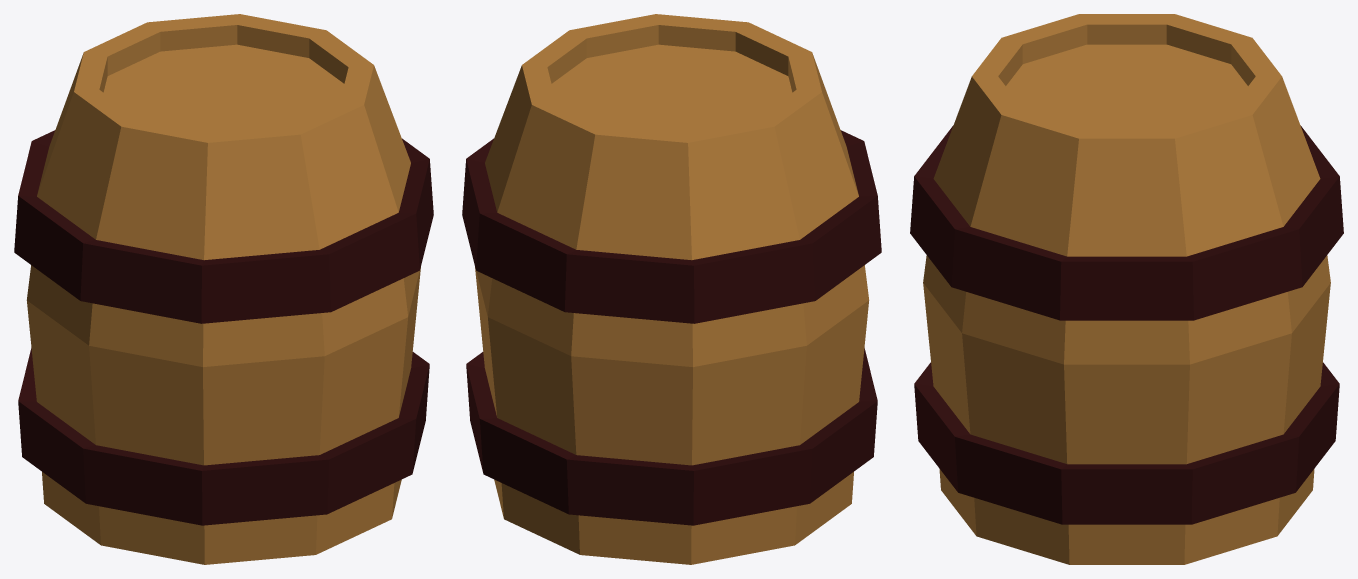
Rendered from barrel_lev4.glb.
3 renders of one model, left to right at view 1: azimuth 30°, elevation 25°; view 2: azimuth 150°, elevation 25°; view 3: azimuth 270°, elevation 25°, orthographic.
Parts seen in each view (by area): view 1: barrel_lev4; view 2: barrel_lev4; view 3: barrel_lev4.
Part boxes in pixels (<box>): barrel_lev4: <box>14,14,433,564</box>; barrel_lev4: <box>462,14,881,564</box>; barrel_lev4: <box>910,14,1343,564</box>.
Bounding box in the file's own units: 0.6261 × 0.6928 × 0.6583.
